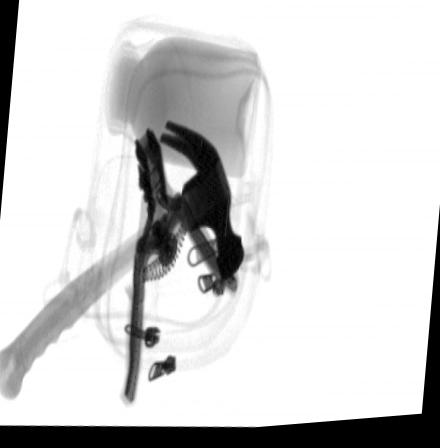Hammer: (0, 125, 246, 400)
Pliers: (120, 130, 241, 410)
